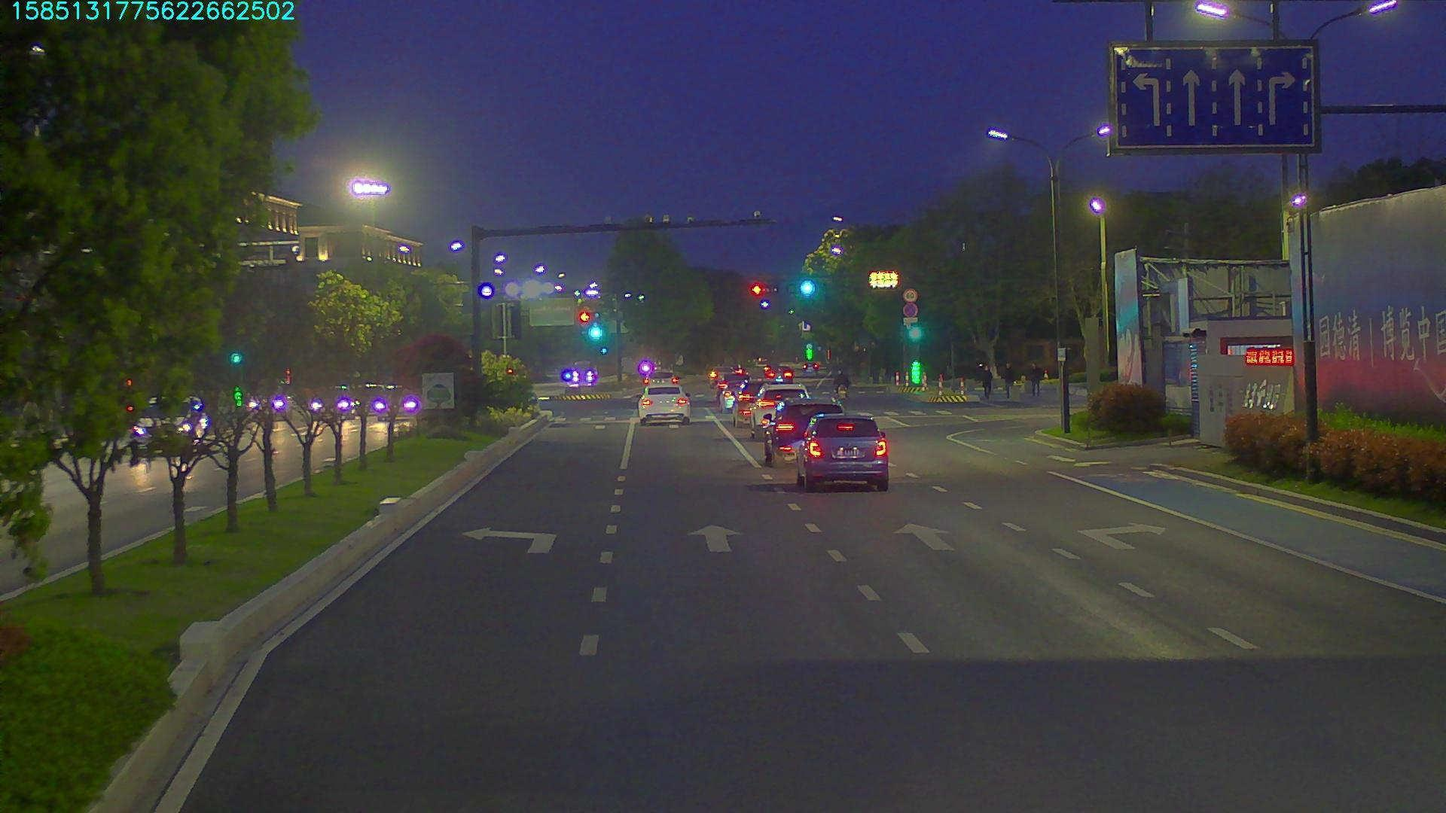green: (797, 275, 824, 299)
red: (752, 280, 764, 297)
